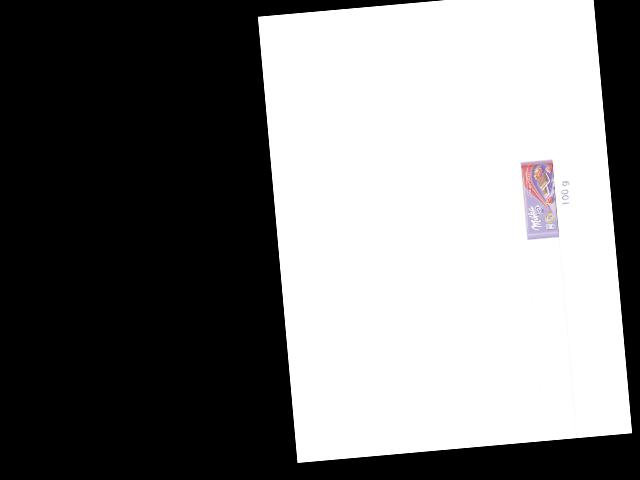chocolate: (520, 158, 563, 239)
